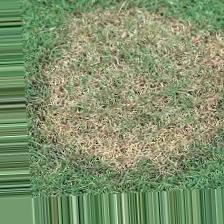patch: (58, 16, 209, 161)
